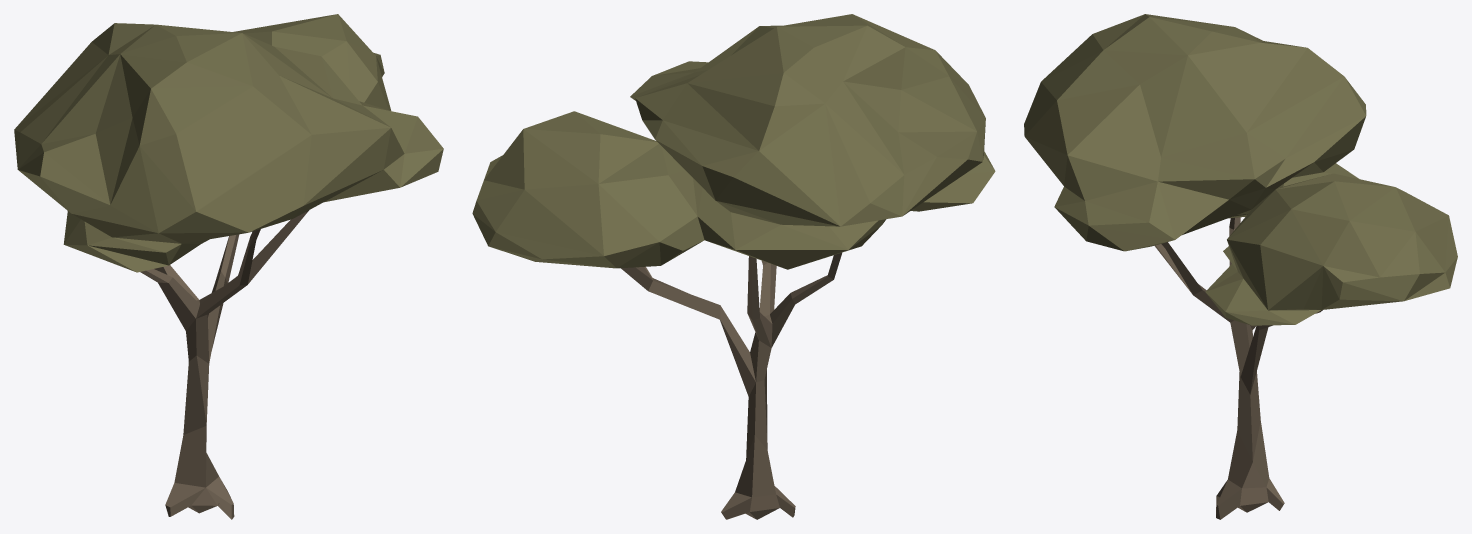
File: SM_Env_Tree_Round_02.fbx
3 renders of one model, left to right at view 1: azimuth 30°, elevation 25°; view 2: azimuth 150°, elevation 25°; view 3: azimuth 270°, elevation 25°, orthographic. The views are drawn at different scales.
Parts seen in each view (by area): view 1: SM_Env_Tree_Round_02; view 2: SM_Env_Tree_Round_02; view 3: SM_Env_Tree_Round_02.
Part boxes in pixels (<box>): SM_Env_Tree_Round_02: <box>14,14,443,519</box>; SM_Env_Tree_Round_02: <box>472,14,995,519</box>; SM_Env_Tree_Round_02: <box>1024,14,1457,519</box>.
Bounding box in the file's own units: 550 × 622 × 524.
